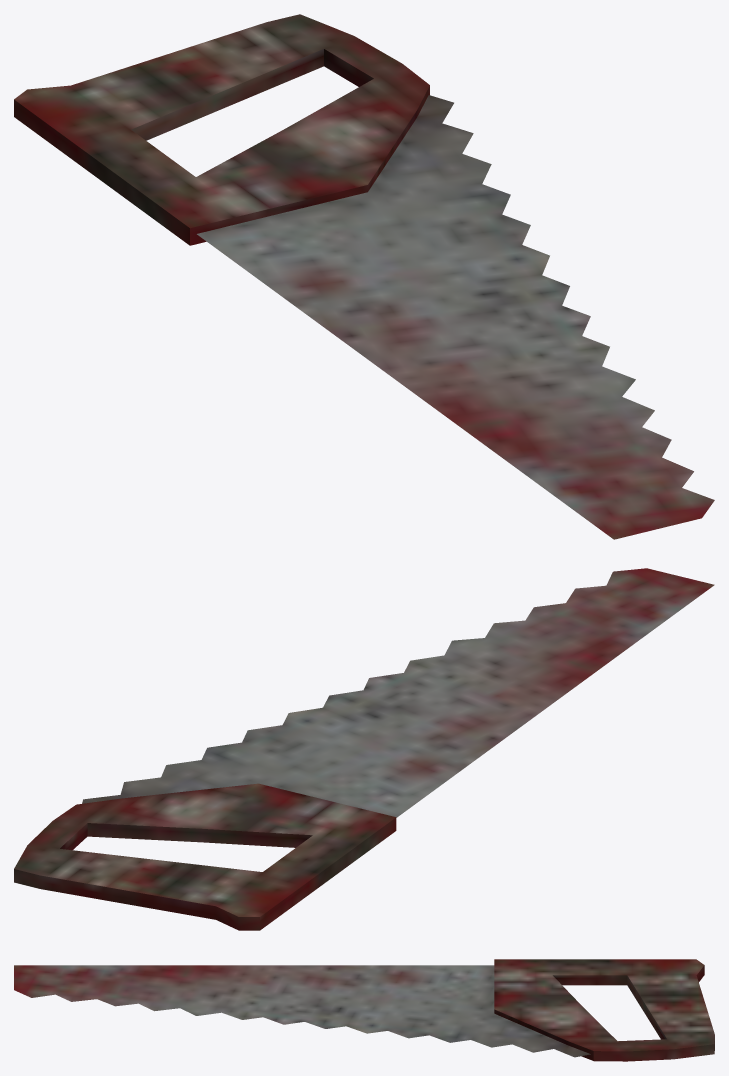
File: Saw.FBX
3 renders of one model, top to bottom at view 1: azimuth 30°, elevation 25°; view 2: azimuth 150°, elevation 25°; view 3: azimuth 270°, elevation 25°, orthographic. The views are drawn at different scales.
Parts seen in each view (by area): view 1: Saw; view 2: Saw; view 3: Saw.
Part boxes in pixels (x1,y1,x2,y2): Saw: (14,14,714,539); Saw: (14,568,714,930); Saw: (14,959,714,1061).
Size of the model in its own units: 17.69 by 0.8867 by 55.85.
